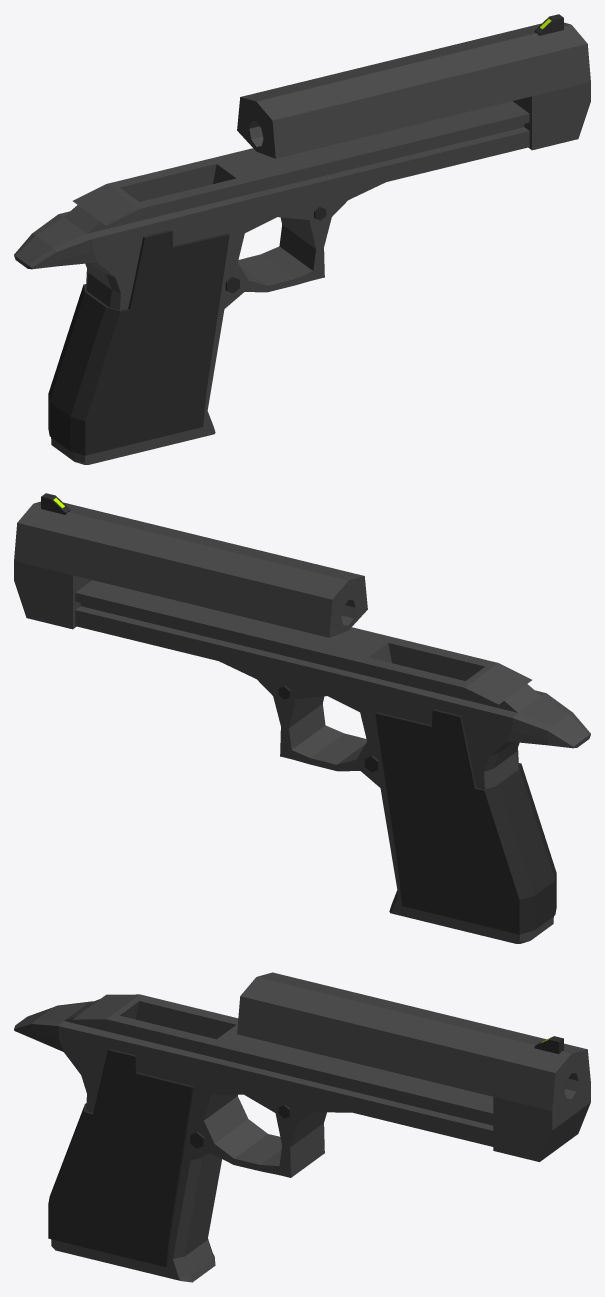
File: Pistol3_02.fbx
3 renders of one model, top to bottom at view 1: azimuth 30°, elevation 25°; view 2: azimuth 150°, elevation 25°; view 3: azimuth 330°, elevation 25°, orthographic.
Visible parts, largest first — view 1: Pistol3_02; view 2: Pistol3_02; view 3: Pistol3_02.
Part boxes in pixels (<box>): Pistol3_02: <box>14,14,590,464</box>; Pistol3_02: <box>14,493,590,943</box>; Pistol3_02: <box>14,972,590,1282</box>.
Bounding box in the file's own units: 0.3445 × 0.1921 × 0.042.
